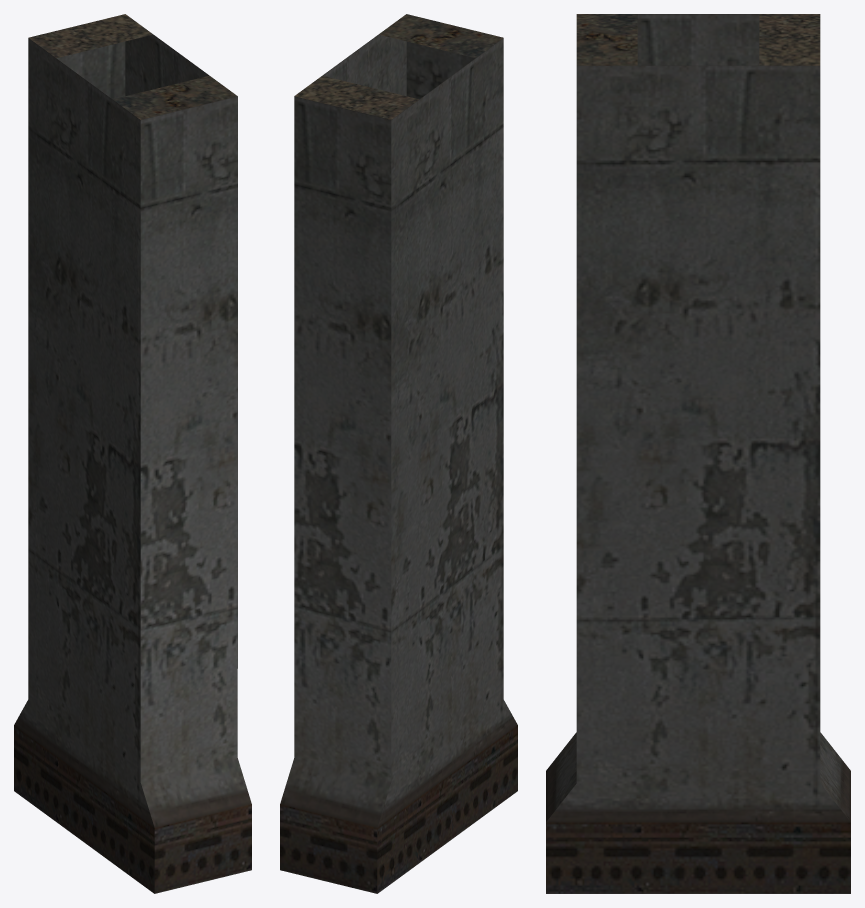
File: pillar_rtx_2.dae
The picture shows the model from 3 angles, left to right: view 1: azimuth 30°, elevation 25°; view 2: azimuth 150°, elevation 25°; view 3: azimuth 270°, elevation 25°; orthographic projection. The views are drawn at different scales.
Visible parts, largest first — view 1: pillar_rtx_2; view 2: pillar_rtx_2; view 3: pillar_rtx_2.
Part boxes in pixels (x1,y1,x2,y2): pillar_rtx_2: (14,14,251,893); pillar_rtx_2: (280,14,517,893); pillar_rtx_2: (546,14,850,893).
Bounding box in the file's own units: 0.4 × 1 × 3.
2 materials, 2 textured.
